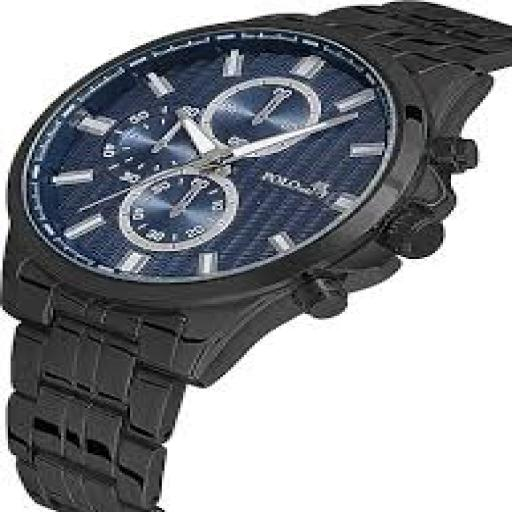KolSaati: (0, 2, 501, 508)
